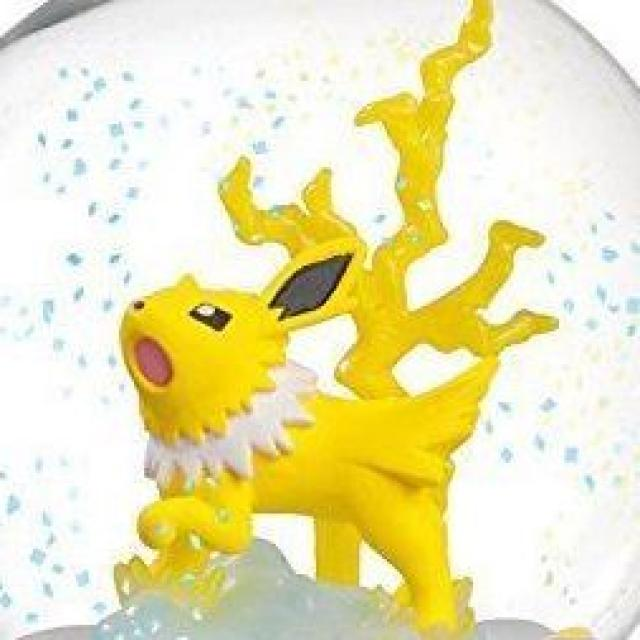Jolteon: (103, 229, 532, 603)
